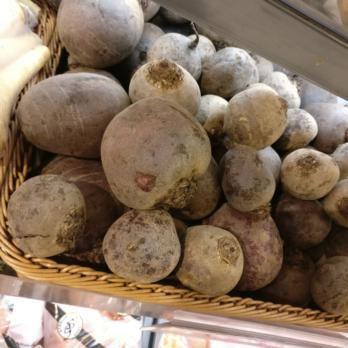beetroot: (140, 99, 346, 282), (19, 66, 130, 158), (147, 45, 263, 107), (5, 172, 85, 260), (59, 1, 144, 66)
